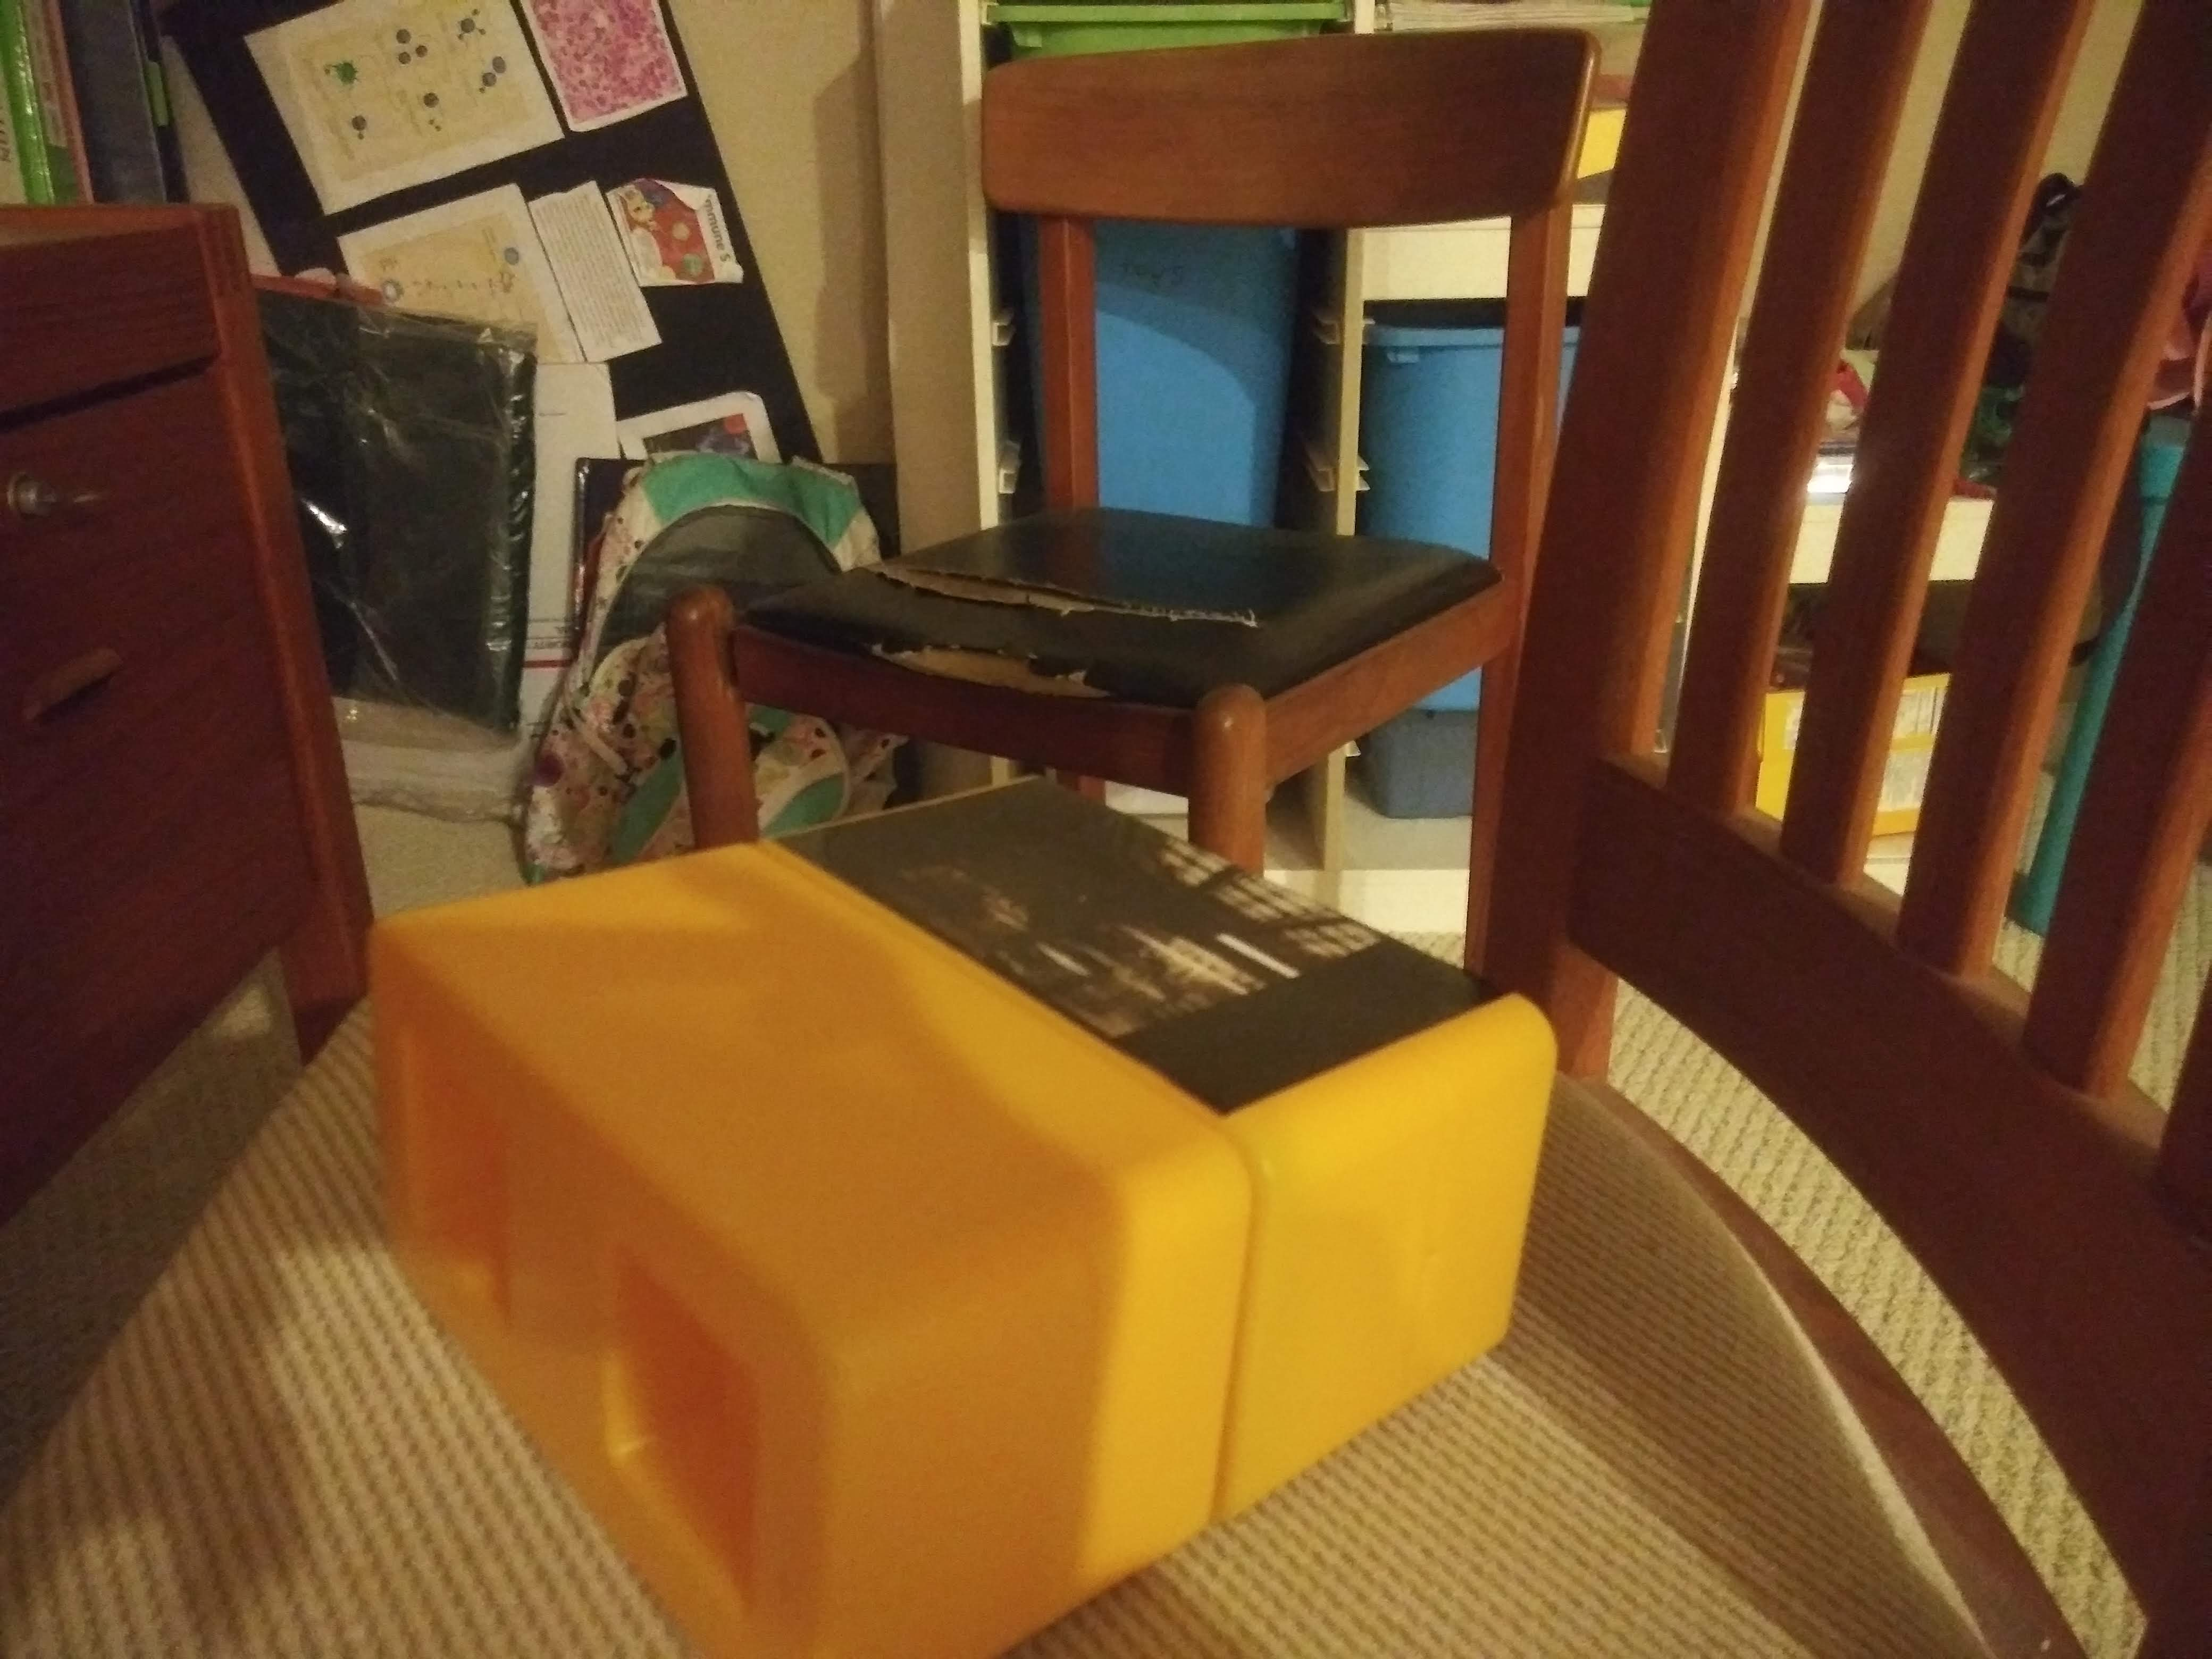skystone: (784, 788, 1587, 1222)
stone: (368, 856, 1066, 1610)
